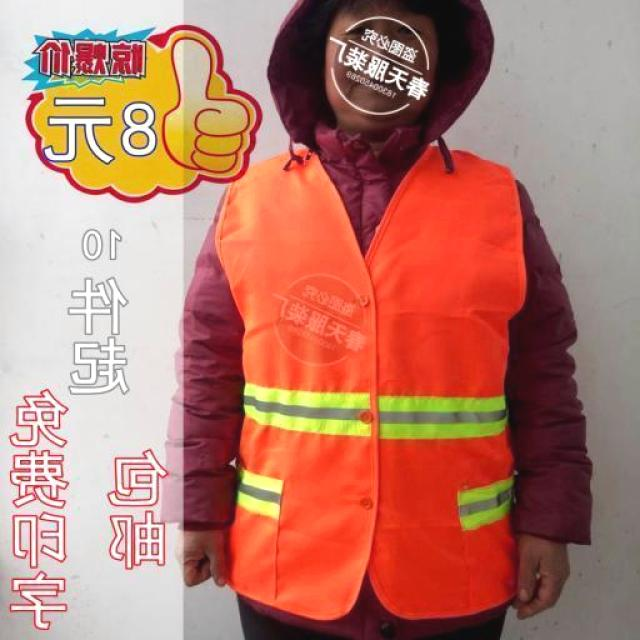hand_noglove: (498, 526, 582, 624), (168, 512, 238, 594)
person: (163, 1, 592, 640)
vest: (222, 146, 519, 620)
